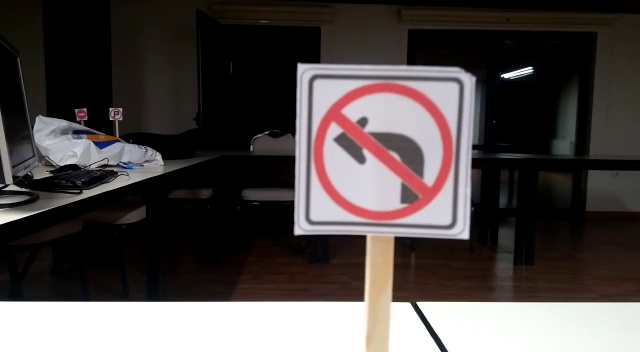sola_donulmez: (294, 71, 470, 235)
